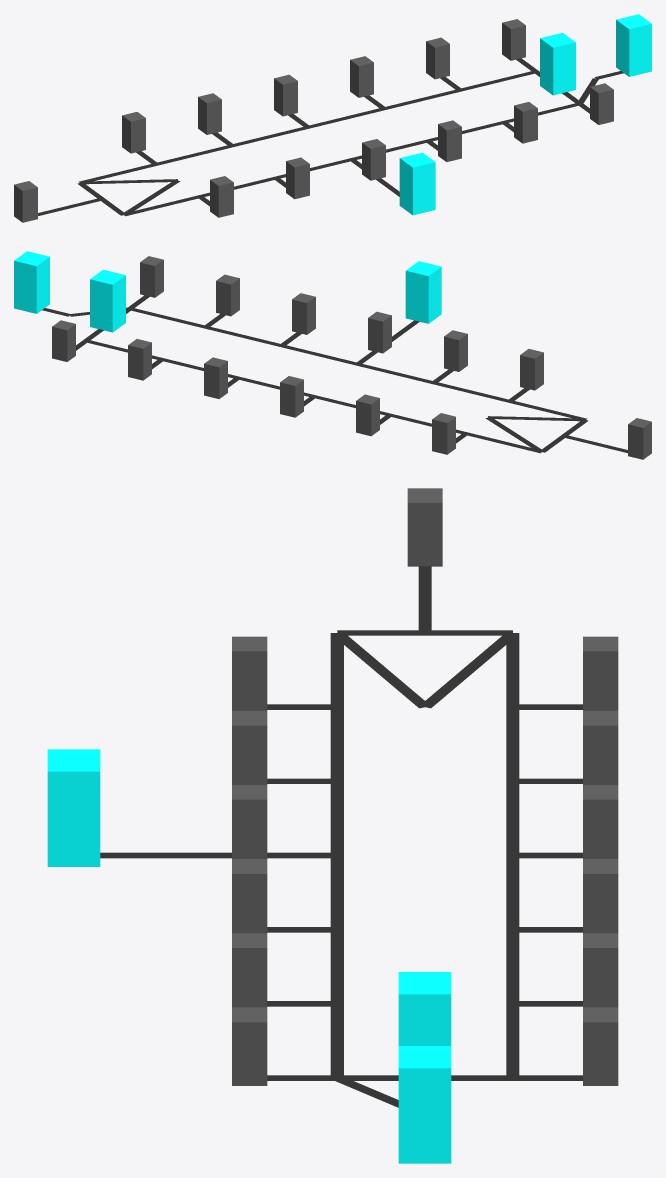
The model's file is campus_model.glb.
The picture shows the model from 3 angles, top to bottom: view 1: azimuth 30°, elevation 25°; view 2: azimuth 150°, elevation 25°; view 3: azimuth 270°, elevation 25°; orthographic projection. The views are drawn at different scales.
Size of what is drawn, in the model's own units: 165 by 12 by 65.
